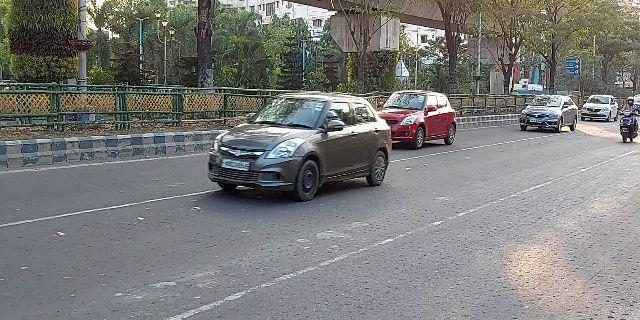Car: (207, 89, 392, 202), (376, 89, 461, 150), (517, 92, 580, 135), (580, 92, 621, 123)
Motorbike: (615, 95, 638, 144)
